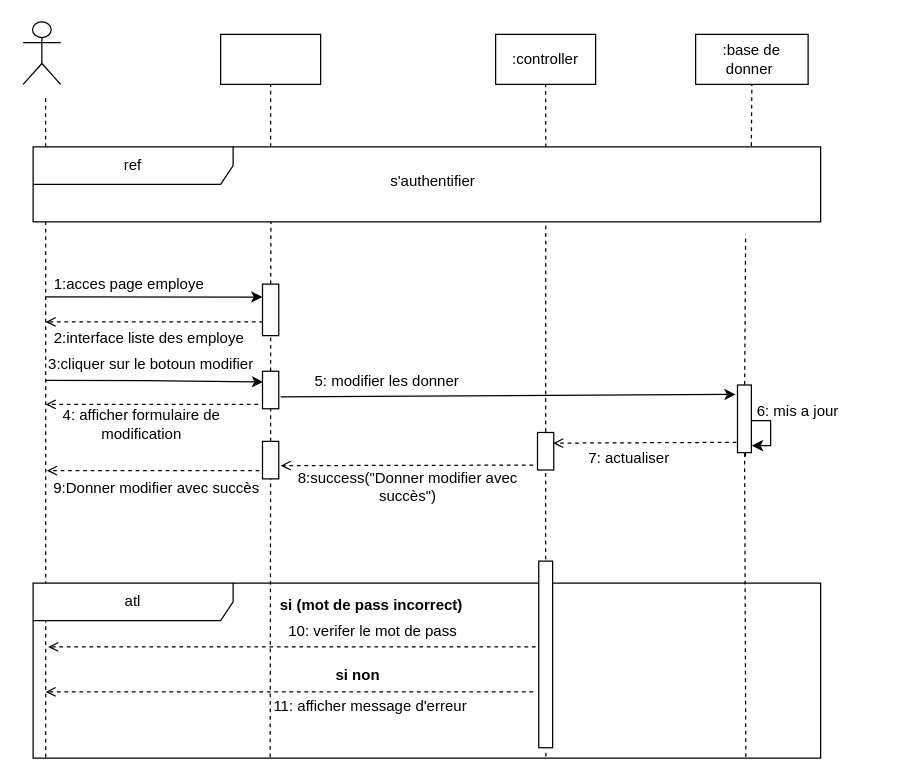
The diagram is 908 pixels wide and 781 high, and some of its shapes have lost their labels. Here are the shapes that lost their labels. From the top down, the centre of each, then its label:
At [41,52]: "admin".
At [270,58]: ":view".
